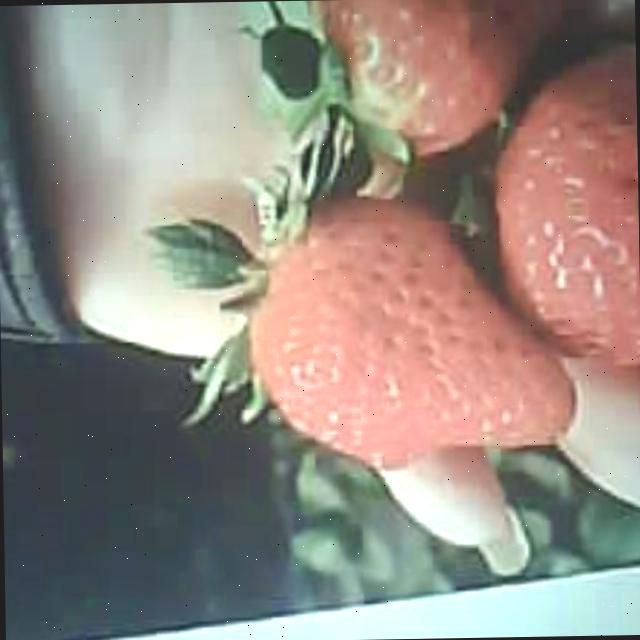ripe: (244, 188, 572, 456)
